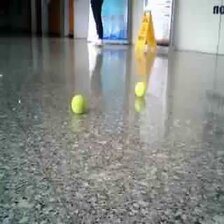tennis: (71, 95, 86, 114), (135, 82, 145, 96)
